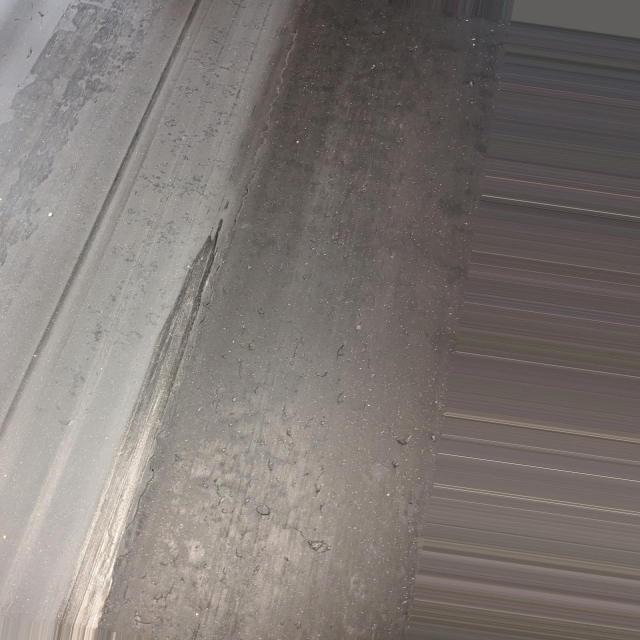Wear: (58, 235, 229, 633)
